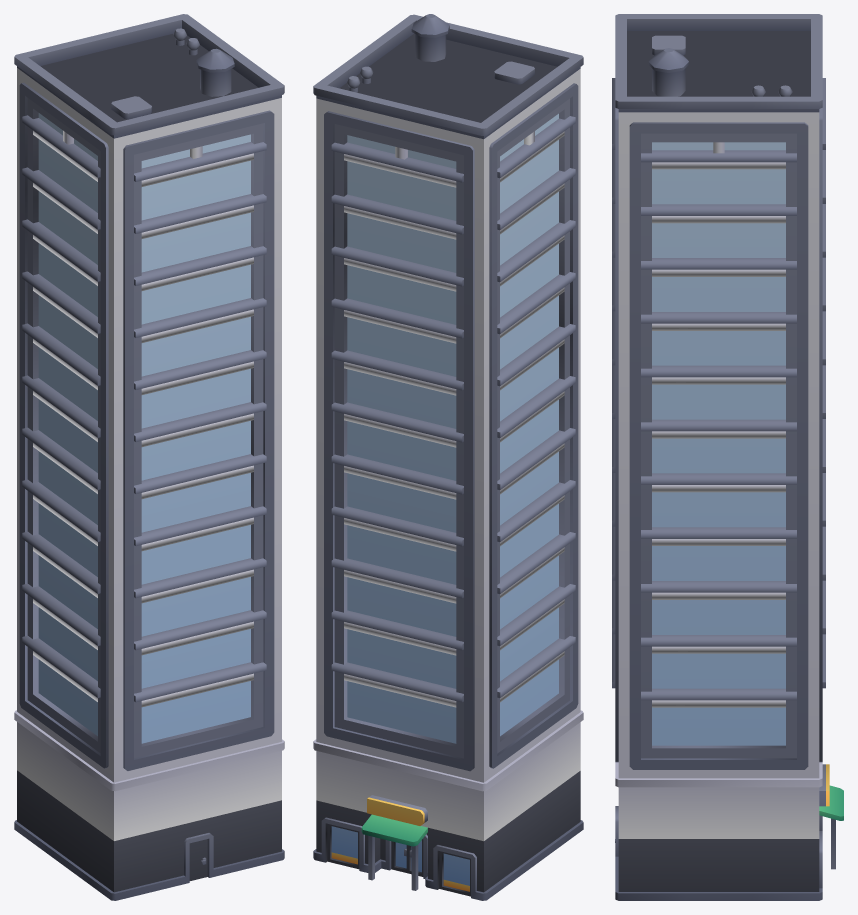
Rendered from building-skyscraper-d.glb.
The picture shows the model from 3 angles, left to right: view 1: azimuth 30°, elevation 25°; view 2: azimuth 150°, elevation 25°; view 3: azimuth 270°, elevation 25°; orthographic projection. The views are drawn at different scales.
Parts seen in each view (by area): view 1: building-skyscraper-d; view 2: building-skyscraper-d; view 3: building-skyscraper-d.
Boxes of the visible parts, x1,y1,x2,y2 form: building-skyscraper-d: (14,14,284,900); building-skyscraper-d: (313,14,583,900); building-skyscraper-d: (612,14,843,900).
Bounding box in the file's own units: 1.28 × 5.47 × 1.39.
1 material, 1 textured.
